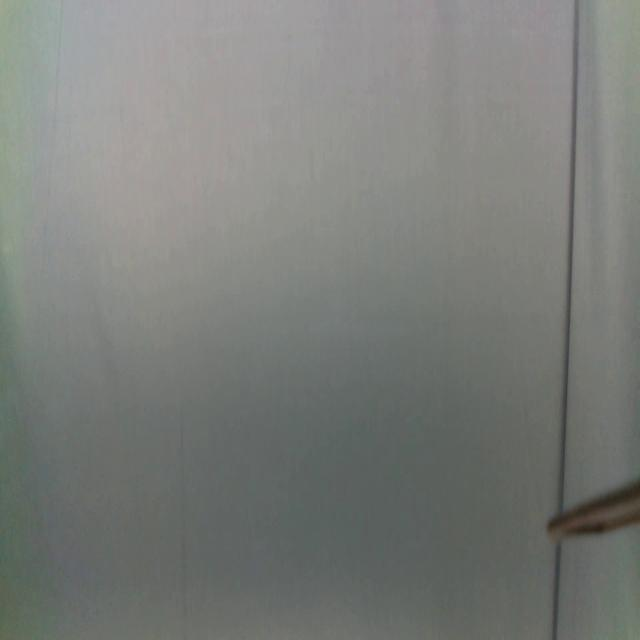crease: (556, 2, 582, 506), (550, 544, 562, 640)
